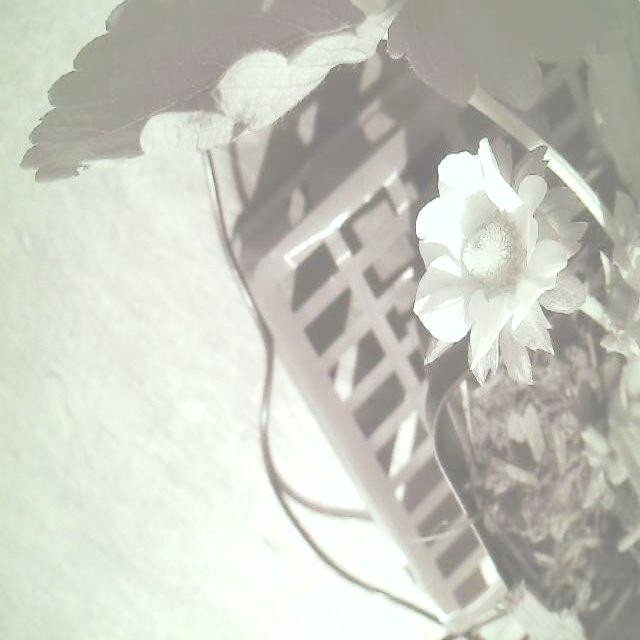flower: (402, 134, 574, 386)
